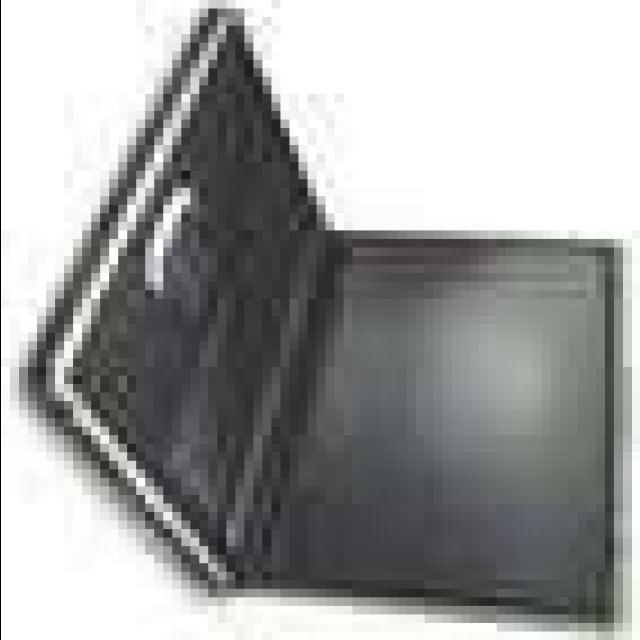-keyboard-: (86, 11, 610, 634)
